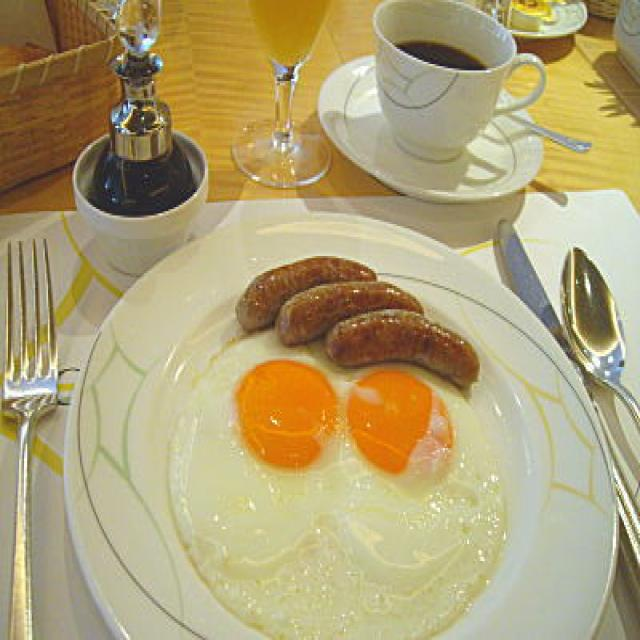鸡蛋料理: (171, 309, 507, 640)
